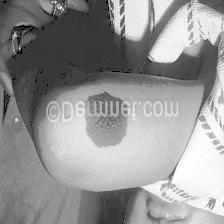Potentially Malignant Skin Tumors: (85, 90, 128, 148)
